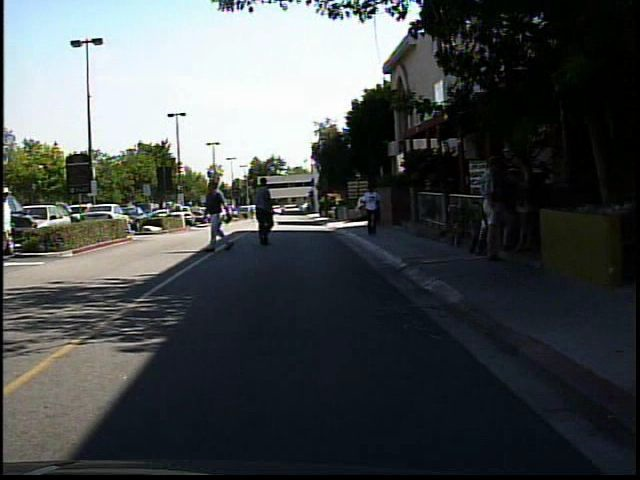person: (473, 149, 512, 264), (507, 153, 537, 257), (202, 175, 236, 255), (249, 174, 284, 250), (4, 182, 26, 262), (359, 178, 387, 240), (170, 196, 186, 228), (245, 200, 261, 224)
